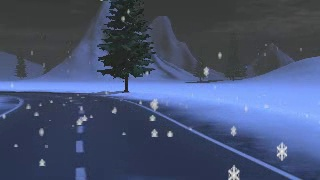Lane: (0, 90, 300, 179)
